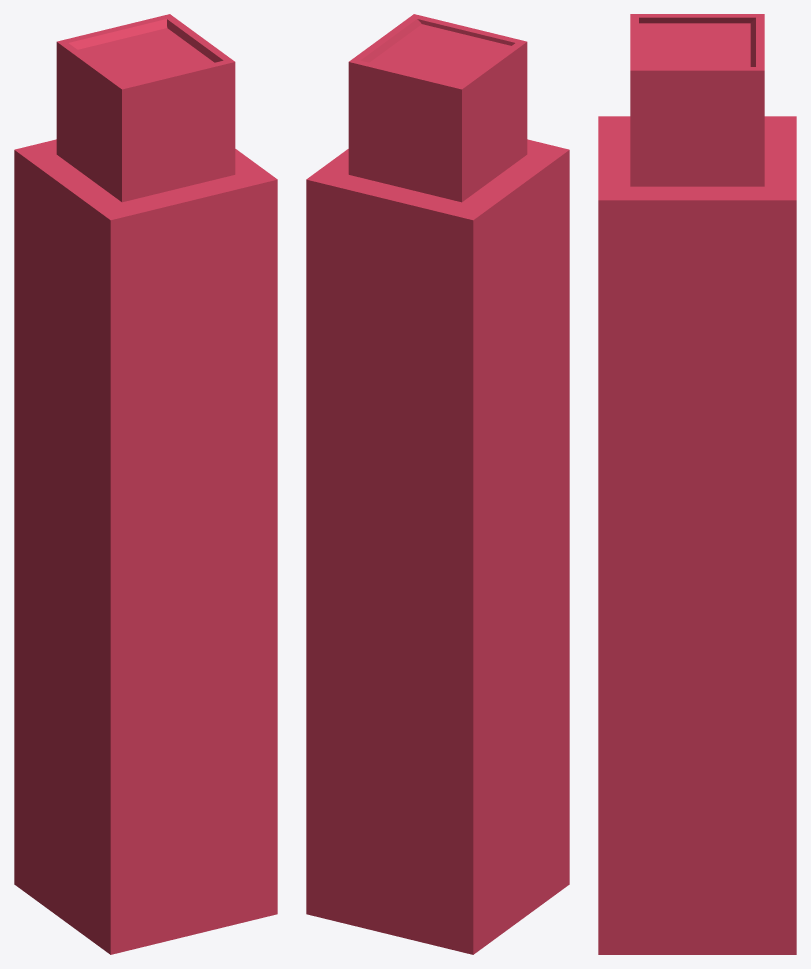
Rendered from Building1_red.fbx.
3 views of the same model, side by side, from view 1: azimuth 30°, elevation 25°; view 2: azimuth 150°, elevation 25°; view 3: azimuth 270°, elevation 25° (orthographic). The views are drawn at different scales.
Visible parts, largest first — view 1: Building 1; view 2: Building 1; view 3: Building 1.
Part boxes in pixels (bbox=[...]): Building 1: bbox=[14, 14, 277, 954]; Building 1: bbox=[306, 14, 569, 954]; Building 1: bbox=[598, 14, 796, 954].
Bounding box in the file's own units: 1001 × 4853 × 1001.
1 material, 1 textured.
